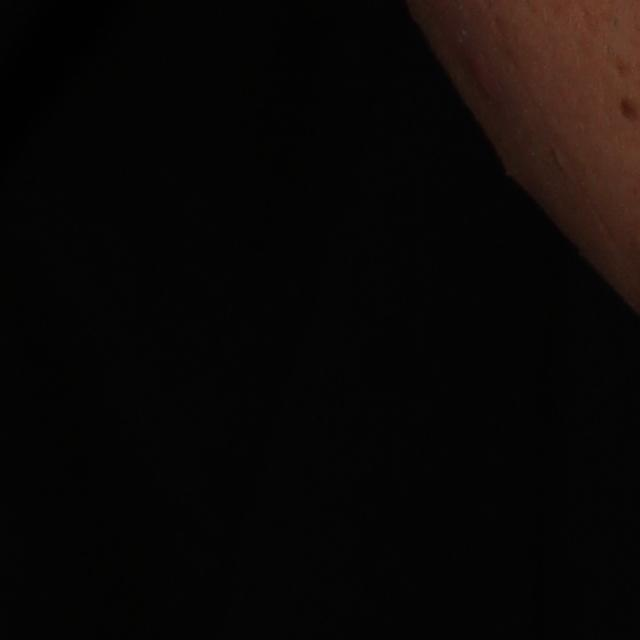nevus: (613, 93, 637, 115)
papule: (466, 57, 512, 112)
